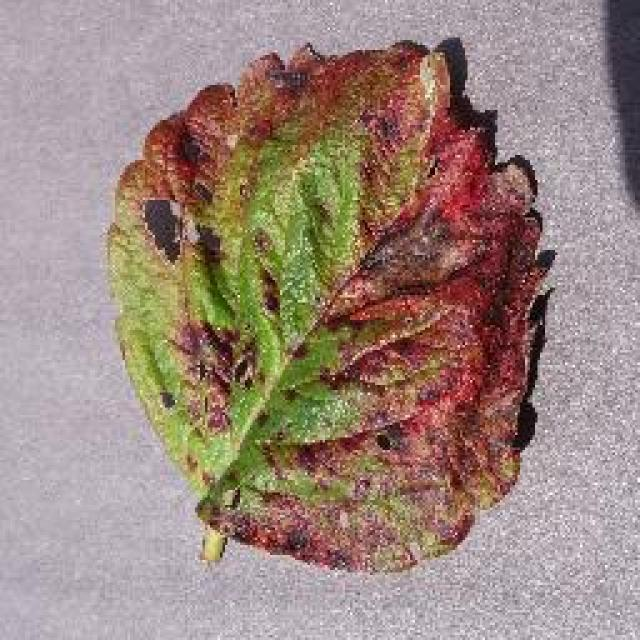Strawberry leaf scorch: (145, 48, 512, 562)
